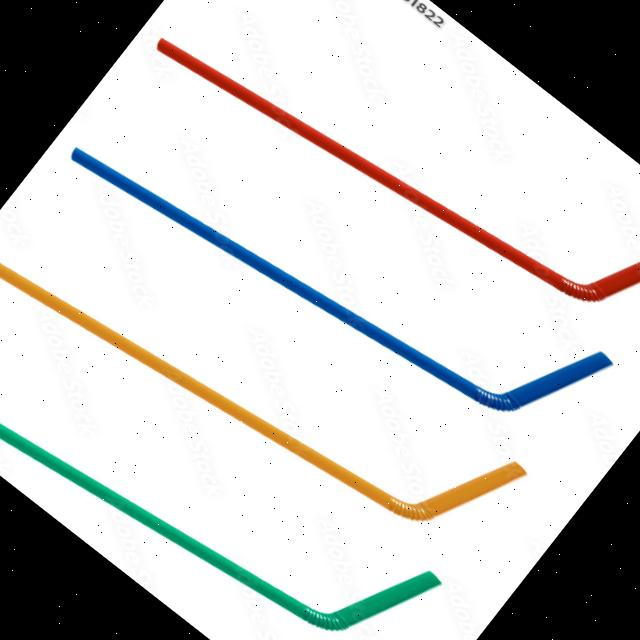plastic: (0, 216, 459, 640)
